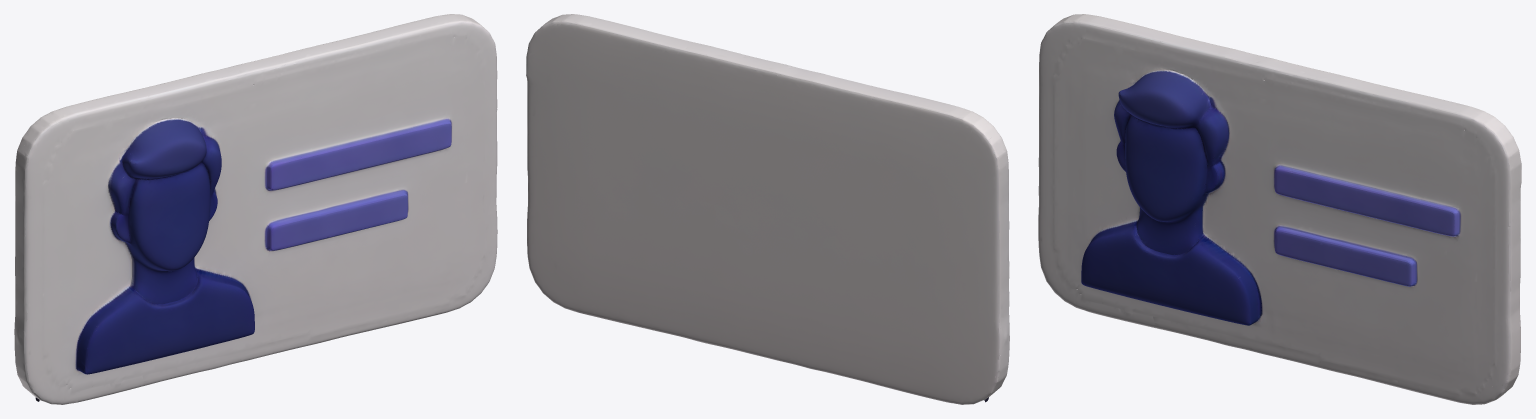
Rendered from student_card.glb.
3 views of the same model, side by side, from view 1: azimuth 30°, elevation 25°; view 2: azimuth 150°, elevation 25°; view 3: azimuth 330°, elevation 25° (orthographic).
Parts seen in each view (by area): view 1: model; view 2: model; view 3: model.
Boxes of the visible parts, bbox=[...] form: model: bbox=[14, 14, 497, 404]; model: bbox=[526, 14, 1009, 404]; model: bbox=[1038, 14, 1521, 404].
Size of the model in its own units: 1.9 by 1.11 by 0.2114.
Materials: 1 (1 with a texture image).
